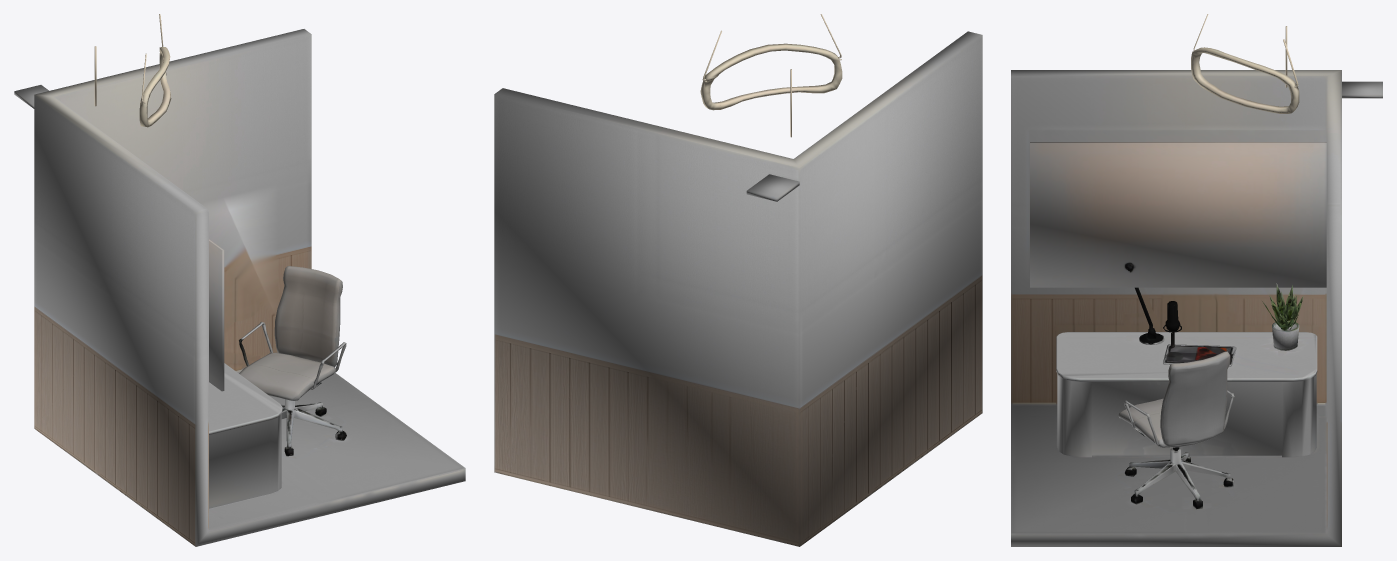
File: minimalist_studio.glb
3 views of the same model, side by side, from view 1: azimuth 30°, elevation 25°; view 2: azimuth 150°, elevation 25°; view 3: azimuth 270°, elevation 25° (orthographic). The views are drawn at different scales.
Visible parts, largest first — view 1: tripo_node_7938ce0f-b798-4d10-a4ca-8bb1f8c2f1de; view 2: tripo_node_7938ce0f-b798-4d10-a4ca-8bb1f8c2f1de; view 3: tripo_node_7938ce0f-b798-4d10-a4ca-8bb1f8c2f1de.
Part boxes in pixels (x1,y1,x2,y2): tripo_node_7938ce0f-b798-4d10-a4ca-8bb1f8c2f1de: (14,14,465,546); tripo_node_7938ce0f-b798-4d10-a4ca-8bb1f8c2f1de: (494,14,982,546); tripo_node_7938ce0f-b798-4d10-a4ca-8bb1f8c2f1de: (1011,14,1382,546).
Bounding box in the file's own units: 0.6855 × 0.998 × 0.7988.
Materials: 1 (1 with a texture image).
